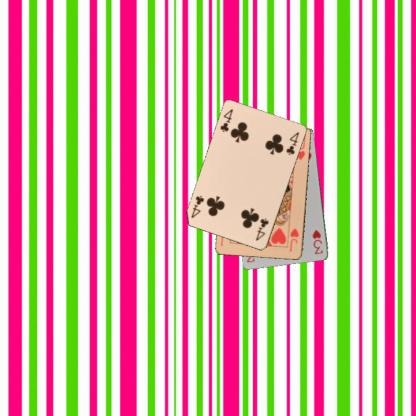3h: (310, 227, 324, 255)
4c: (253, 216, 270, 242), (218, 107, 234, 133)
Jh: (286, 226, 300, 252)
